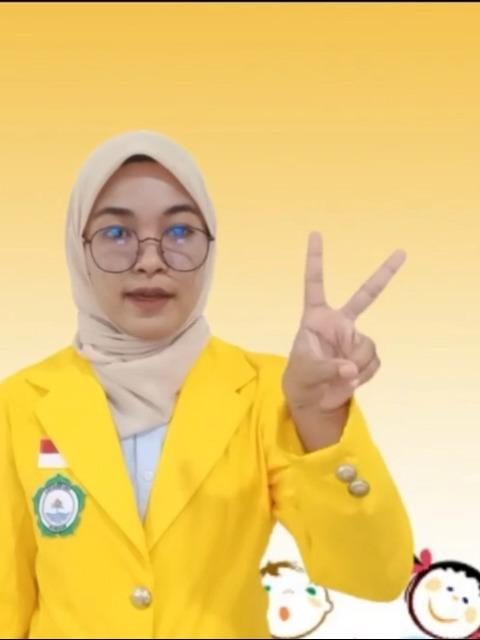V: (277, 225, 411, 413)
